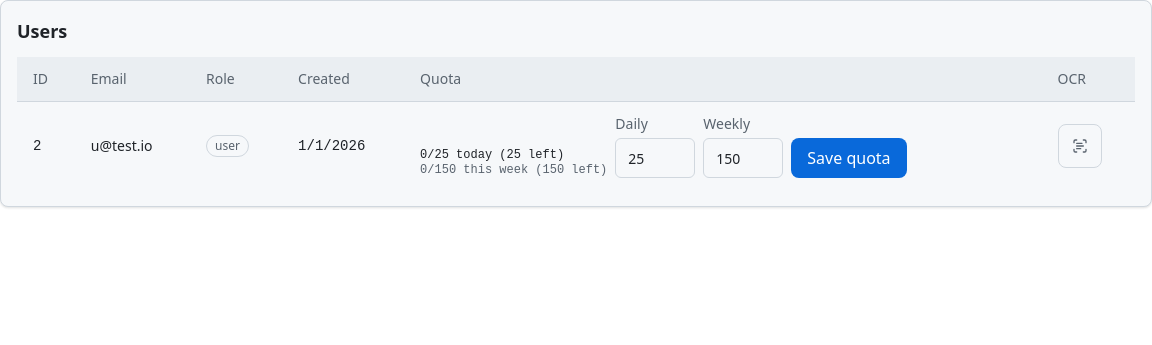
invalid quota input → field error, patch không gọi
Replace the text in the number field with test id "daily-limit-2" with "100001". click: (655,158)
box: [615,138,695,178]
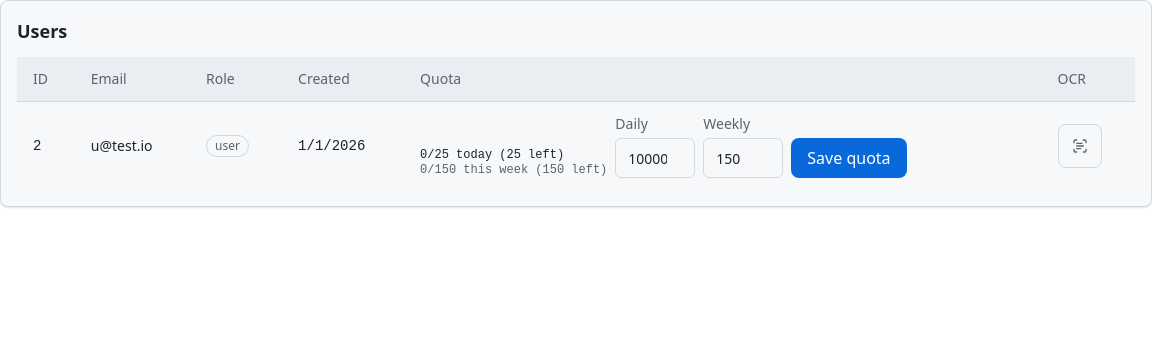
Click the button with test id "save-quota-2". click: (849,158)
box: [791,138,906,178]
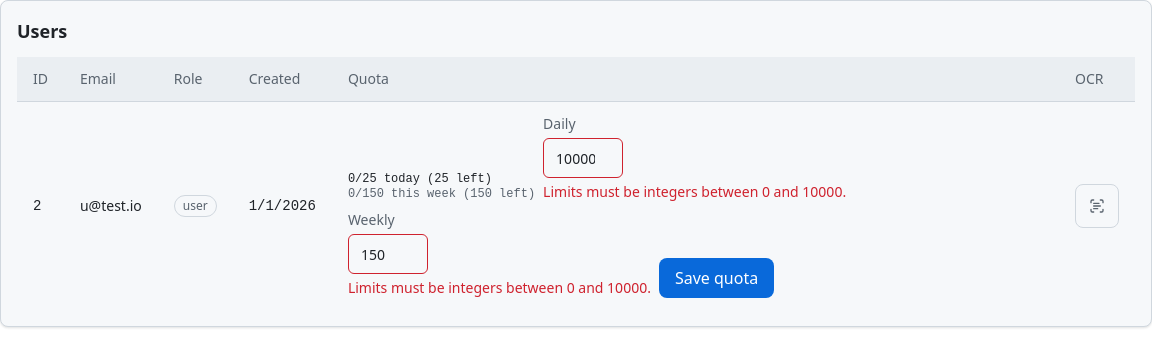
Check: the message "Limits must be integers between 0 and 10000." below "Daily" is shown, box [543,182,846,201]
